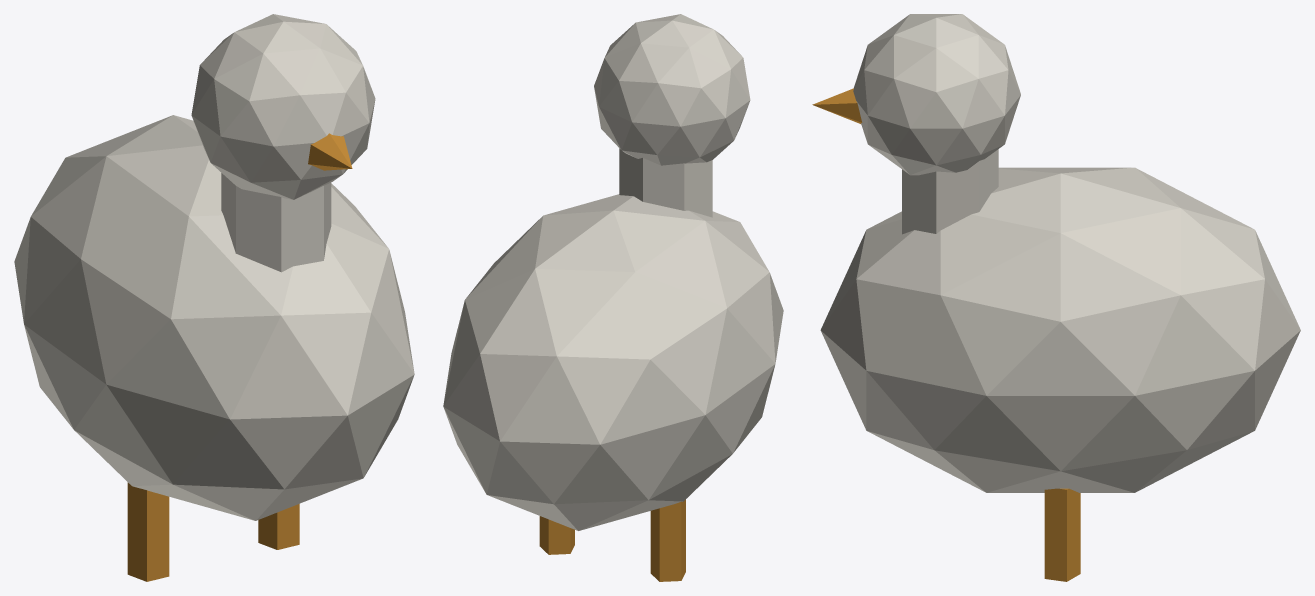
The model's file is goose.glb.
3 views of the same model, side by side, from view 1: azimuth 30°, elevation 25°; view 2: azimuth 150°, elevation 25°; view 3: azimuth 270°, elevation 25° (orthographic). The views are drawn at different scales.
Visible parts, largest first — view 1: Cone; view 2: Cone; view 3: Cone.
Part boxes in pixels (x1,y1,x2,y2): Cone: [14, 14, 414, 581]; Cone: [443, 14, 783, 581]; Cone: [812, 14, 1300, 581].
Bounding box in the file's own units: 0.3408 × 0.6386 × 0.5363.
